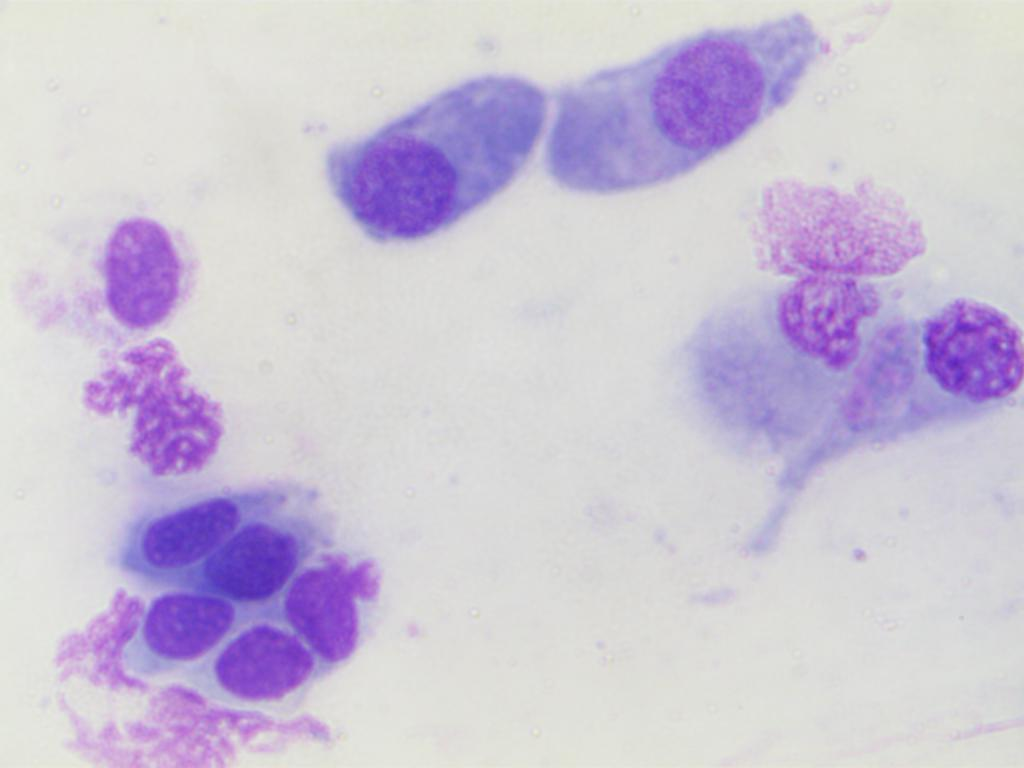artifact: (81, 340, 234, 484), (751, 176, 936, 282), (766, 276, 886, 370)
epithelial: (327, 45, 545, 256), (553, 31, 771, 207), (278, 536, 424, 678), (93, 199, 188, 333), (915, 291, 1023, 398), (105, 494, 243, 576), (202, 519, 305, 600), (132, 579, 235, 660), (212, 623, 315, 704)
